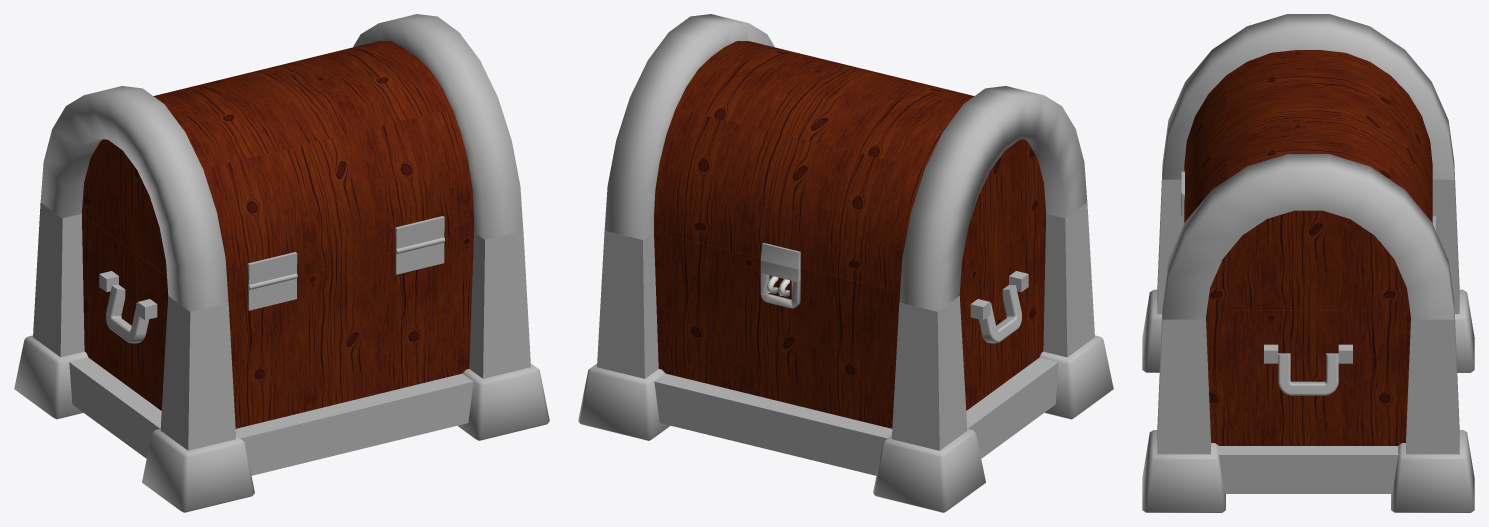
The model's file is chest.glb.
The picture shows the model from 3 angles, left to right: view 1: azimuth 30°, elevation 25°; view 2: azimuth 150°, elevation 25°; view 3: azimuth 270°, elevation 25°; orthographic projection. The views are drawn at different scales.
Parts seen in each view (by area): view 1: Spline (×3), Spline 2D, Rim (×2), back right (×2), back left (×2), front right (×2), Extrusion Spline, top Cube (×2), bottom Cube (×2); view 2: Spline (×5), Spline 2D, Rim (×2), front right (×2), front left (×2), back right (×2), Extrusion Spline; view 3: Spline (×3), Rim (×2), Spline 2D, Extrusion Spline, front left (×2), back left (×2), front right (×2), back right (×2).
Boxes of the visible parts, box(x1,y1,x2,y2) form: Spline (×3): box(69, 41, 473, 475); Spline 2D: box(82, 214, 473, 428); Rim (×2): box(40, 14, 523, 311); back right (×2): box(142, 296, 254, 512); back left (×2): box(457, 231, 549, 440); front right (×2): box(14, 202, 88, 419); Extrusion Spline: box(82, 139, 166, 275); top Cube (×2): box(247, 216, 444, 284); bottom Cube (×2): box(248, 243, 444, 310); Spline (×5): box(654, 41, 1058, 475); Spline 2D: box(654, 214, 1045, 428); Rim (×2): box(604, 14, 1087, 311); front right (×2): box(873, 296, 985, 512); front left (×2): box(578, 231, 670, 440); back right (×2): box(1039, 202, 1113, 419); Extrusion Spline: box(961, 139, 1045, 275); Spline (×3): box(1184, 50, 1432, 493); Rim (×2): box(1162, 14, 1454, 319); Spline 2D: box(1206, 310, 1410, 445); Extrusion Spline: box(1207, 210, 1409, 310); front left (×2): box(1391, 305, 1474, 512); back left (×2): box(1142, 305, 1225, 512); front right (×2): box(1432, 164, 1474, 372); back right (×2): box(1142, 164, 1182, 372).
Size of the model in its own units: 1.25 by 1.11 by 1.
Materials: 3 (1 with a texture image).
